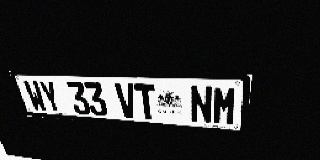3: (66, 81, 91, 115), (83, 82, 108, 116)
M: (213, 86, 238, 126)
N: (190, 85, 213, 124)
T: (134, 83, 158, 120)
V: (114, 83, 139, 119)
W: (22, 80, 48, 112)
Y: (38, 81, 64, 113)
